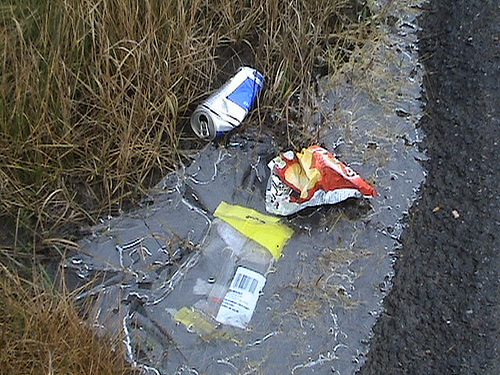litter: (186, 200, 295, 329), (265, 145, 377, 214), (187, 63, 263, 141)
